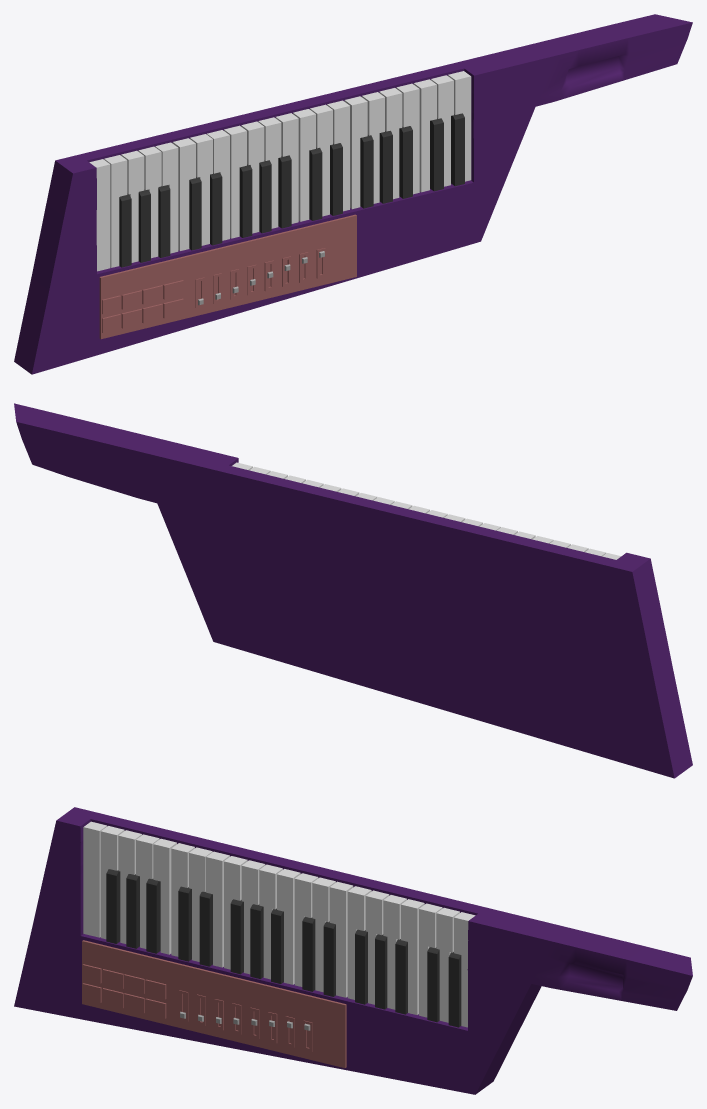
File: Keytar.fbx
The picture shows the model from 3 angles, top to bottom: view 1: azimuth 30°, elevation 25°; view 2: azimuth 150°, elevation 25°; view 3: azimuth 330°, elevation 25°; orthographic projection. The views are drawn at different scales.
Visible parts, largest first — view 1: pCube1, polySurface22, pCube50, polySurface34; view 2: pCube1, polySurface22; view 3: pCube1, polySurface22, pCube50, polySurface34.
Part boxes in pixels (x1,y1,x2,y2): pCube1: (14, 14, 692, 374); polySurface22: (89, 71, 471, 271); pCube50: (99, 214, 356, 339); polySurface34: (119, 113, 464, 267); pCube1: (14, 403, 692, 778); polySurface22: (232, 462, 620, 559); pCube1: (14, 807, 692, 1094); polySurface22: (83, 821, 475, 1027); pCube50: (82, 940, 346, 1067); polySurface34: (106, 869, 461, 1027).
Bounding box in the file's own units: 13.74 × 3.8 × 0.7522.
